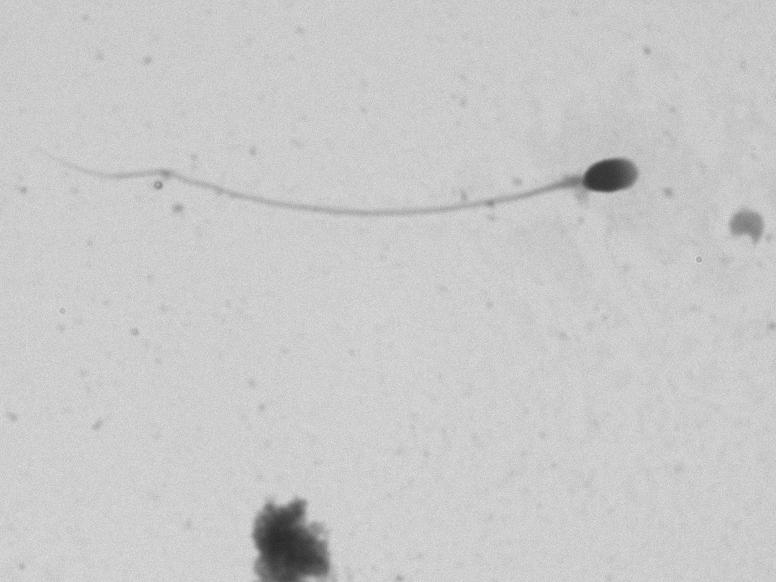Normal: (21, 80, 660, 248)
